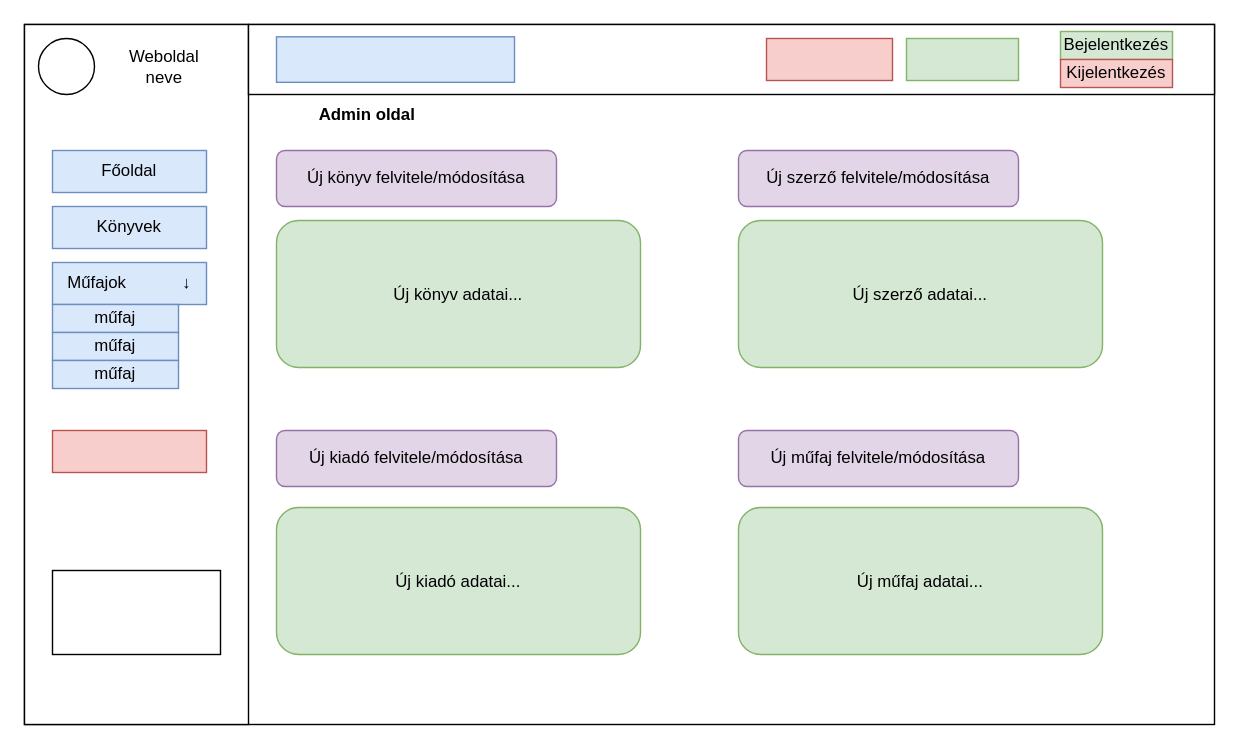
Image size: 1239x749. Some labels were removed from this diagram. The centre of each missing label's shape, as x and y in pixels:
Kedvenc könyvek: the point at 128,450
Keresés: the point at 394,58
Kosaram: the point at 828,58
Logo: the point at 65,65
Regisztráció: the point at 961,58
ÁSZF Kapcsolat: the point at 135,611
